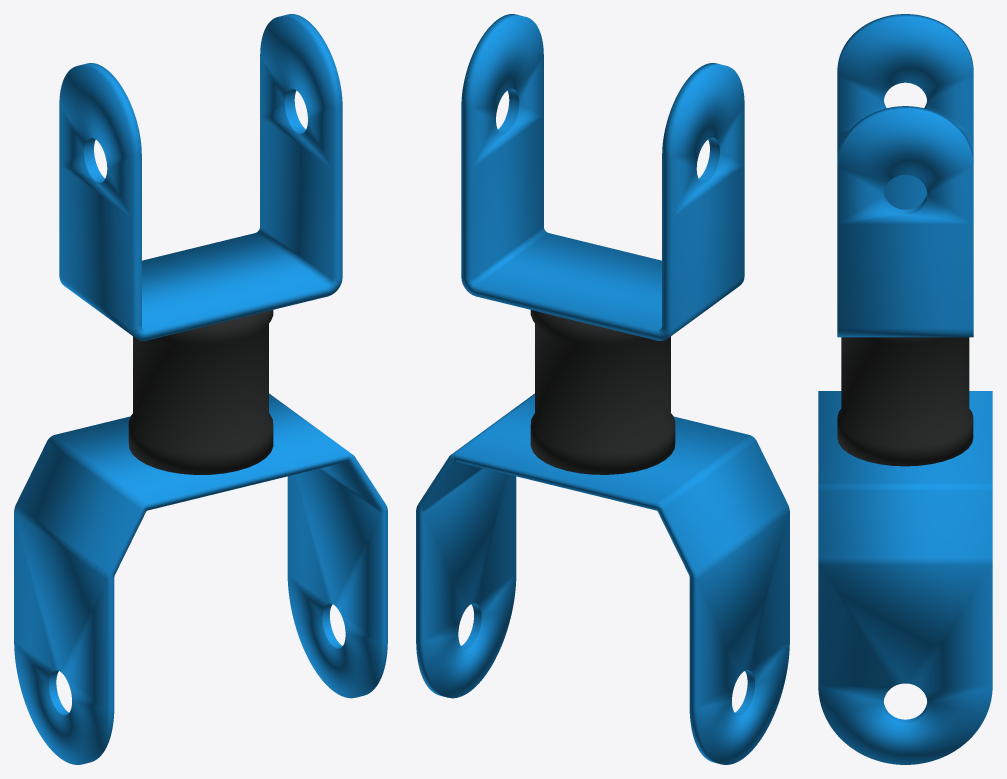
File: upperarm_link.dae
3 renders of one model, left to right at view 1: azimuth 30°, elevation 25°; view 2: azimuth 150°, elevation 25°; view 3: azimuth 270°, elevation 25°, orthographic. The views are drawn at different scales.
Parts seen in each view (by area): view 1: lower-metal-part, bicep-upper-metal, Plane; view 2: lower-metal-part, bicep-upper-metal, Plane; view 3: lower-metal-part, bicep-upper-metal, Plane.
Boxes of the visible parts, x1,y1,x2,y2 form: lower-metal-part: (14, 393, 387, 764); bicep-upper-metal: (59, 14, 342, 340); Plane: (128, 310, 273, 474); lower-metal-part: (416, 393, 789, 764); bicep-upper-metal: (461, 14, 744, 340); Plane: (530, 310, 675, 474); lower-metal-part: (818, 391, 992, 764); bicep-upper-metal: (837, 14, 973, 337); Plane: (837, 337, 973, 466).
Size of the model in its own units: 56 by 32 by 129.
